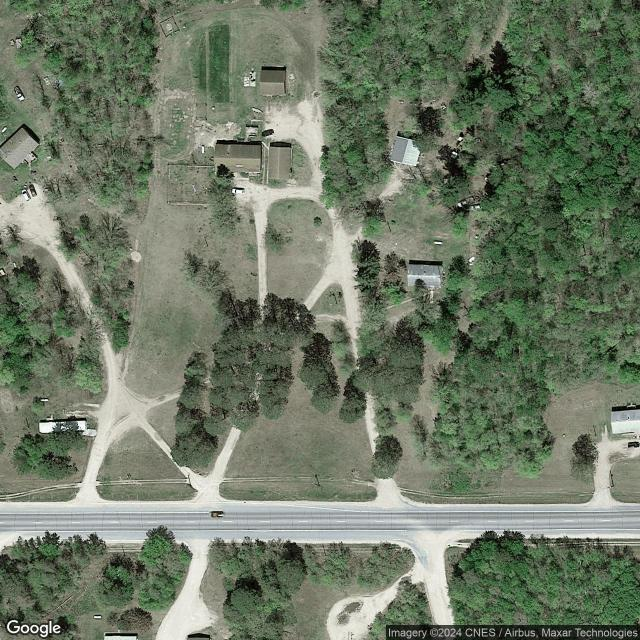Propane: (92, 614, 103, 620), (433, 239, 444, 245), (1, 125, 8, 134), (200, 144, 205, 155), (39, 397, 49, 402), (12, 261, 18, 269)
